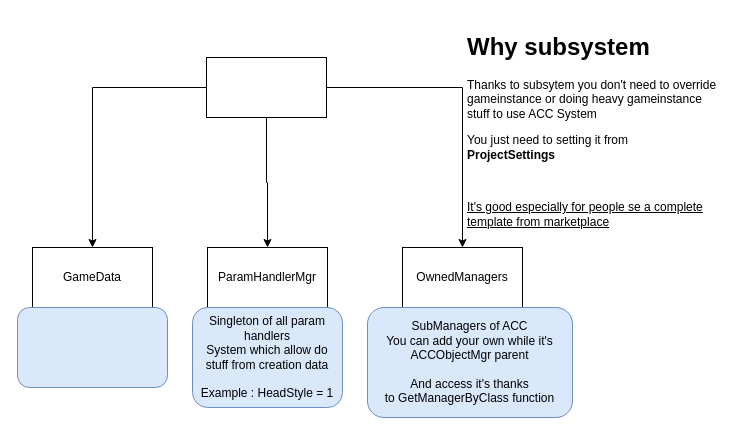
Some shapes in this 740 by 435 pixel diagram are drawn without their labels. Here are the shapes that lost their labels. From the top down, the centre of each, then its label:
point 266,87: ACCSubsystem
point 92,347: Contain all game data setting for ACC Example: All know species in the system
